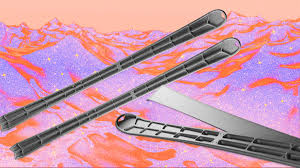skis: (1, 9, 240, 161), (116, 85, 300, 168)
